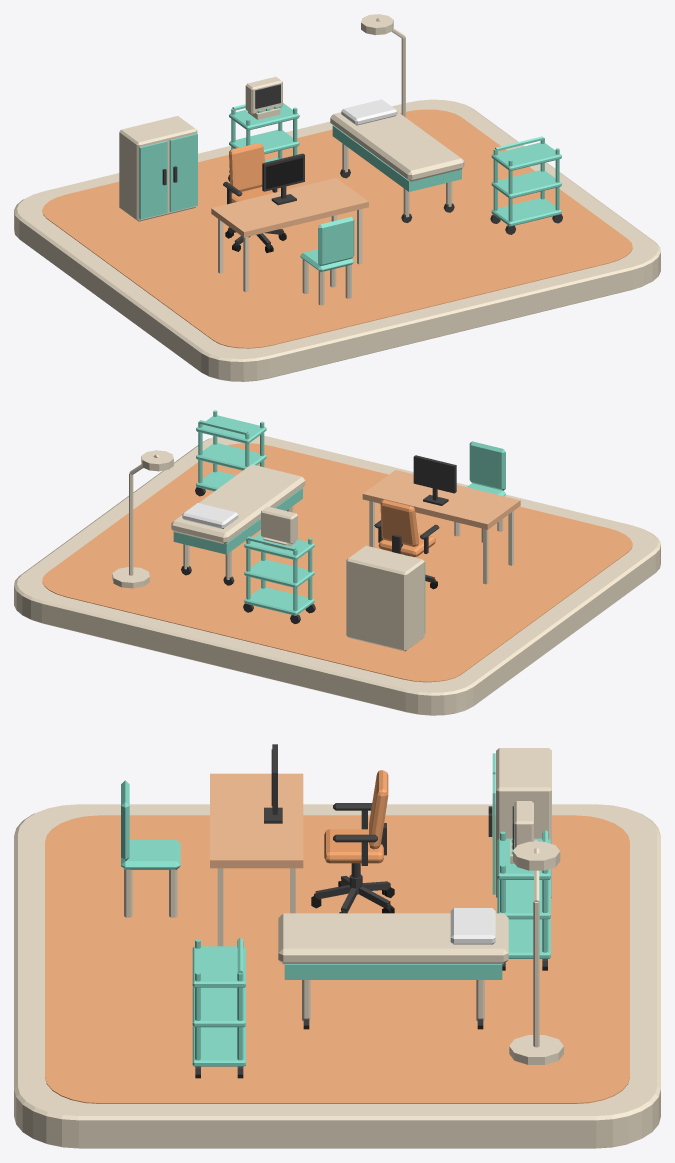
File: room.fbx
The picture shows the model from 3 angles, top to bottom: view 1: azimuth 30°, elevation 25°; view 2: azimuth 150°, elevation 25°; view 3: azimuth 270°, elevation 25°; orthographic projection. The views are drawn at different scales.
Parts seen in each view (by area): view 1: COM-02 Floor Surface, COM-01 Rounded Base Direct, Top, Mattress, Equipment case, COM-04_Chair_blender_direct, Door, Door.001, Backrest, Frame, Tray.002, Tray (+7 smaller); view 2: COM-02 Floor Surface, COM-01 Rounded Base Direct, Equipment case, Top, Mattress, COM-04_Chair_blender_direct, Backrest, Frame, Housing, Tray.003, Tray.004, Tray.001 (+8 smaller); view 3: COM-02 Floor Surface, COM-01 Rounded Base Direct, Mattress, Top, COM-04_Chair_blender_direct, Equipment case, Base, Tray.002, Tray.001, Tray, Pillow, Seat (+10 smaller).
Part boxes in pixels (box(x1,y1,x2,y2)): COM-02 Floor Surface: box(42, 109, 632, 348); COM-01 Rounded Base Direct: box(14, 99, 660, 381); Top: box(211, 178, 368, 292); Mattress: box(330, 111, 464, 181); Equipment case: box(119, 116, 197, 221); COM-04_Chair_blender_direct: box(223, 143, 286, 252); Door: box(139, 141, 167, 219); Door.001: box(169, 133, 197, 211); Backrest: box(318, 216, 354, 265); Frame: box(262, 153, 304, 205); Tray.002: box(491, 142, 561, 171); Tray: box(491, 198, 561, 226); COM-02 Floor Surface: box(42, 443, 632, 682); COM-01 Rounded Base Direct: box(14, 435, 660, 715); Equipment case: box(346, 545, 424, 651); Top: box(362, 470, 520, 584); Mattress: box(171, 464, 305, 544); COM-04_Chair_blender_direct: box(374, 499, 439, 589); Backrest: box(469, 441, 505, 490); Frame: box(413, 455, 456, 505); Housing: box(261, 506, 297, 543); Tray.003: box(244, 587, 314, 615); Tray.004: box(244, 559, 314, 587); Tray.001: box(196, 443, 266, 470); COM-02 Floor Surface: box(45, 815, 629, 1103); COM-01 Rounded Base Direct: box(14, 804, 660, 1148); Mattress: box(278, 913, 508, 964); Top: box(210, 773, 303, 946); COM-04_Chair_blender_direct: box(311, 770, 394, 913); Equipment case: box(496, 748, 551, 897); Base: box(284, 968, 502, 979); Tray.002: box(192, 946, 245, 987); Tray.001: box(192, 987, 245, 1027); Tray: box(192, 1026, 245, 1066); Pillow: box(450, 908, 495, 944); Seat: box(121, 839, 180, 869).
Size of the model in its own units: 600 by 196 by 520.
